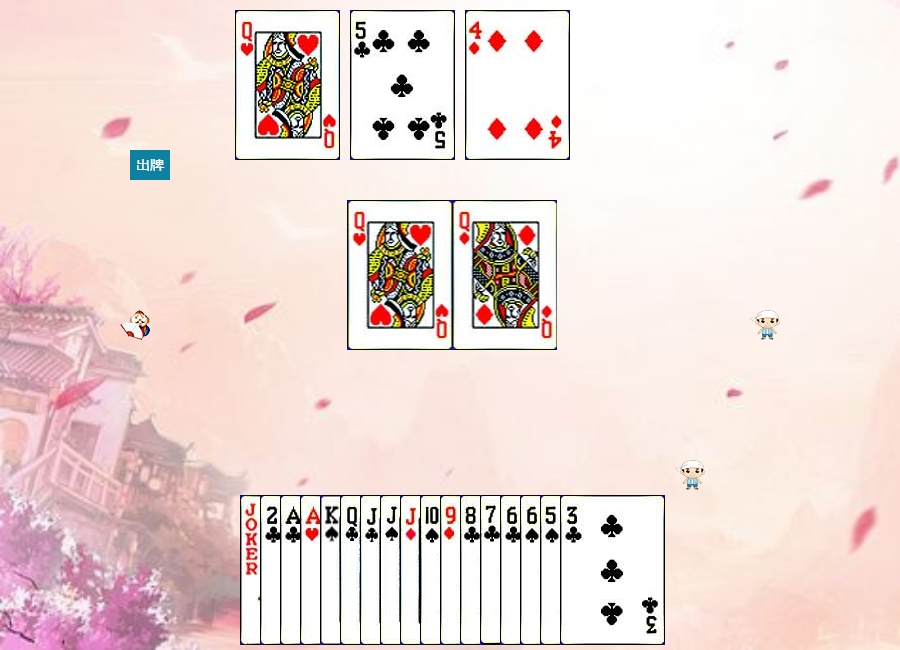10~4: (420, 495, 525, 645)
11~1: (400, 495, 505, 645)
11~2: (360, 495, 465, 645)
11~4: (380, 495, 485, 645)
12~1: (453, 200, 558, 350)
12~2: (340, 495, 445, 645)
12~3: (235, 10, 340, 160), (348, 200, 453, 350)
13~4: (320, 495, 425, 645)
14~2: (280, 495, 385, 645)
14~3: (300, 495, 405, 645)
15~2: (260, 495, 365, 645)
18~4: (240, 495, 345, 645)
3~2: (560, 495, 665, 645)
4~1: (465, 10, 570, 160)
5~2: (350, 10, 455, 160)
5~4: (540, 495, 645, 645)
6~2: (500, 495, 605, 645)
6~4: (520, 495, 625, 645)
7~2: (480, 495, 585, 645)
8~2: (460, 495, 565, 645)
9~1: (440, 495, 545, 645)
